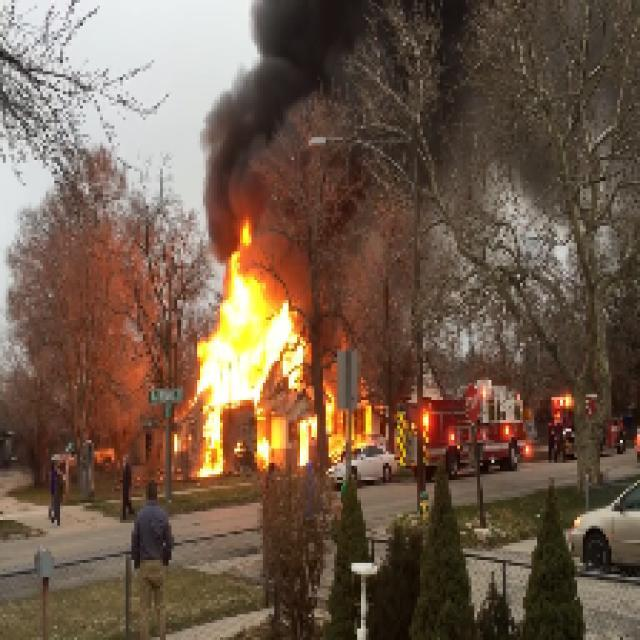Fire: (200, 270, 294, 416)
Smoke: (242, 2, 317, 108), (200, 128, 250, 238)
